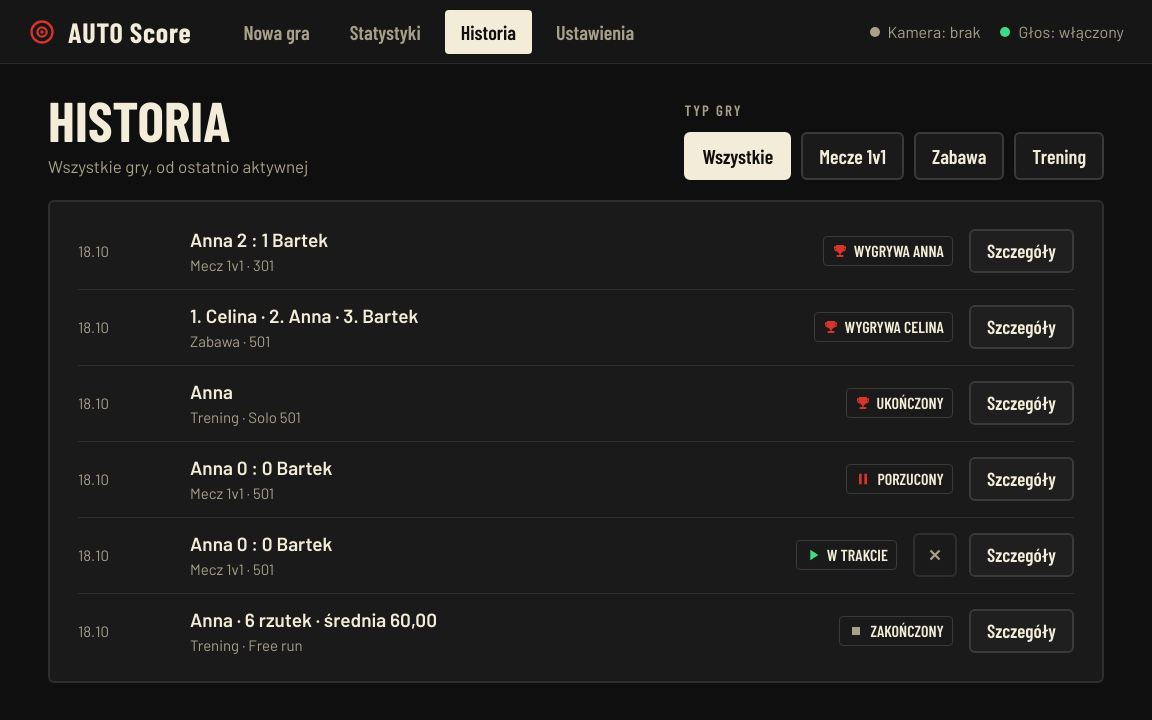
Test case: HistoryScreen › shows a failed abandon and keeps the list
Expected: the text "Anna 2 : 1 Bartek" is shown, [190,228,328,250]
Click the button named "Porzuć:".
click(935, 555)  # box [913,533,957,577]
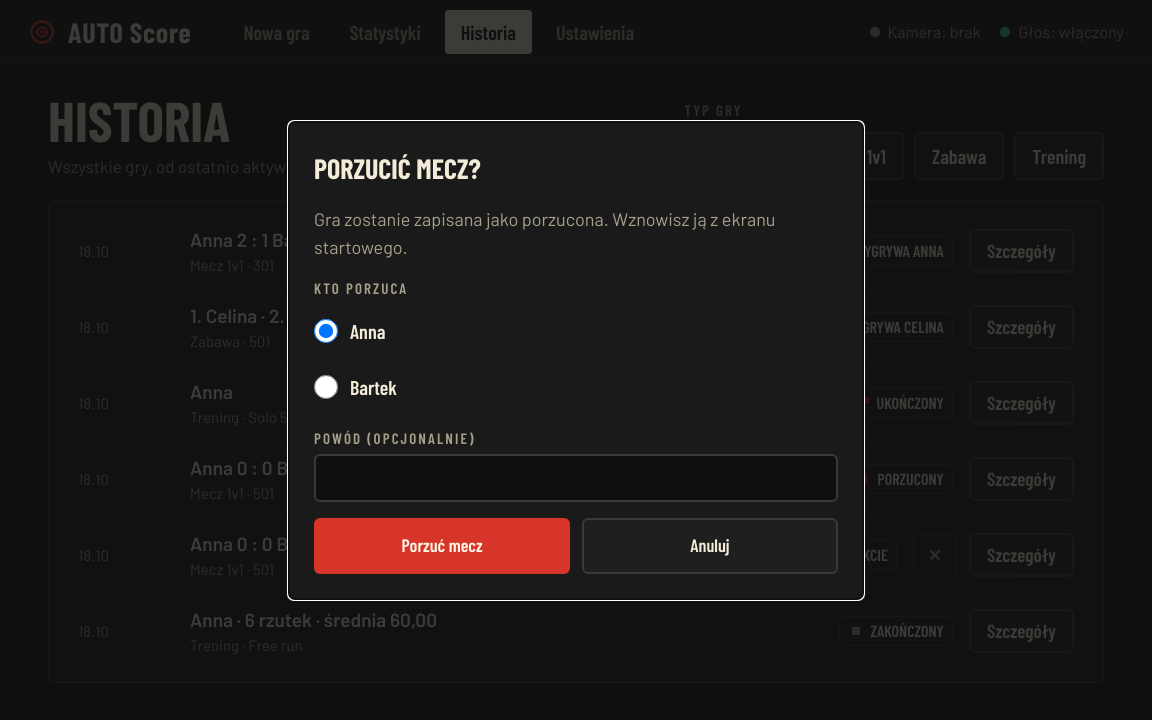
Click the button "Porzuć mecz".
click(442, 546)  # box [314,518,570,574]
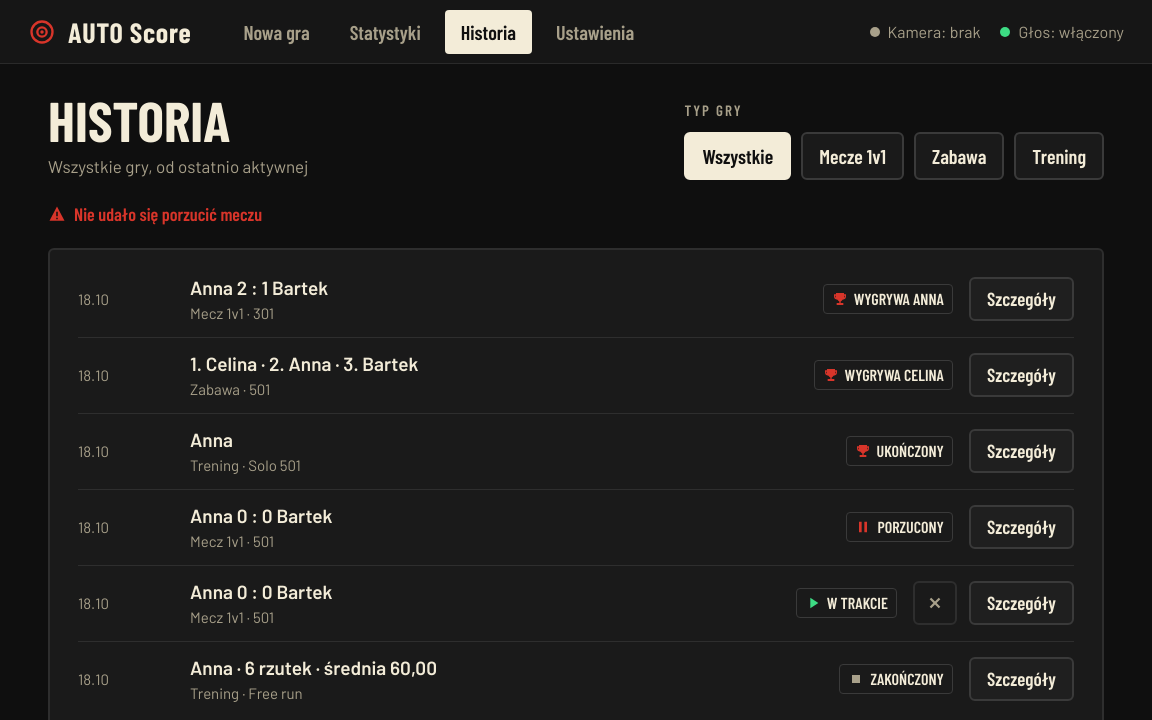
Expected: the number of list items is 6, [78,262,1074,338]; [78,338,1074,414]; [78,414,1074,490]; [78,490,1074,566]; [78,566,1074,642]; [78,642,1074,716]
Expected: the text "Nie udało się porzucić meczu" is shown, [48,202,262,224]
